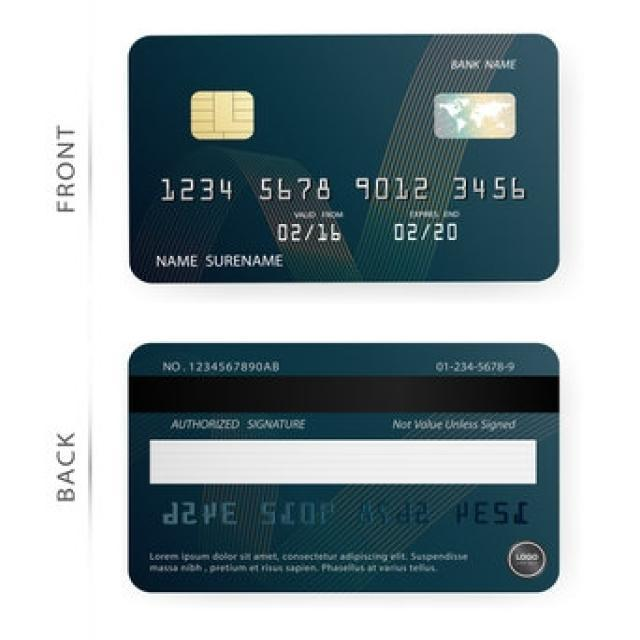payment_card: (127, 341, 560, 594), (127, 32, 560, 283)
